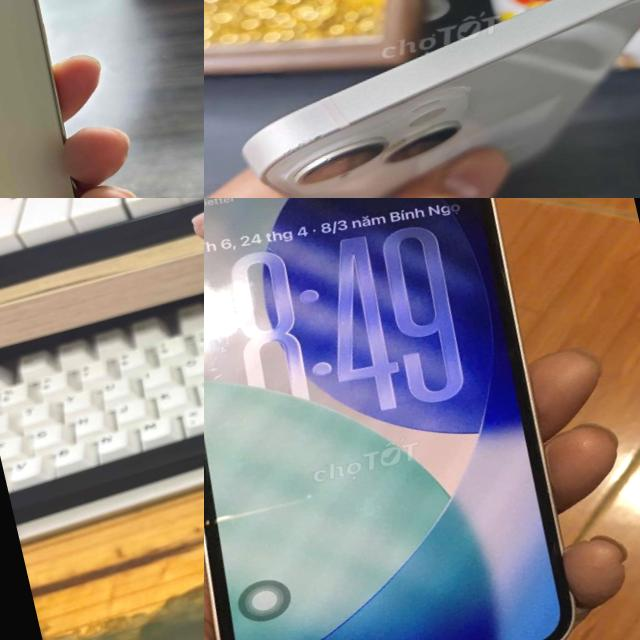gen_12_13: (204, 198, 635, 640), (0, 0, 136, 198)
gen_14: (213, 0, 640, 198)
